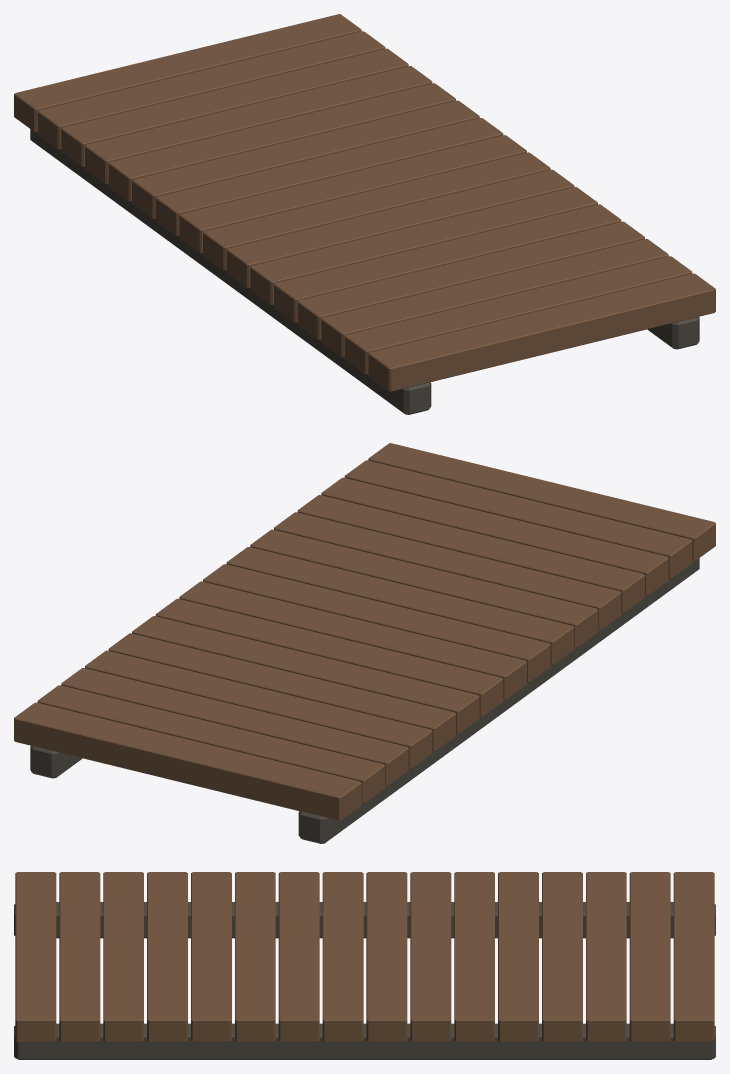
The model's file is bridge.glb.
The picture shows the model from 3 angles, top to bottom: view 1: azimuth 30°, elevation 25°; view 2: azimuth 150°, elevation 25°; view 3: azimuth 270°, elevation 25°; orthographic projection. The views are drawn at different scales.
Visible parts, largest first — view 1: bridge__body; view 2: bridge__body; view 3: bridge__body.
Part boxes in pixels (x1,y1,x2,y2): bridge__body: [14, 14, 715, 414]; bridge__body: [14, 443, 715, 843]; bridge__body: [14, 872, 715, 1059].
Bounding box in the file's own units: 2 × 0.3 × 4.
